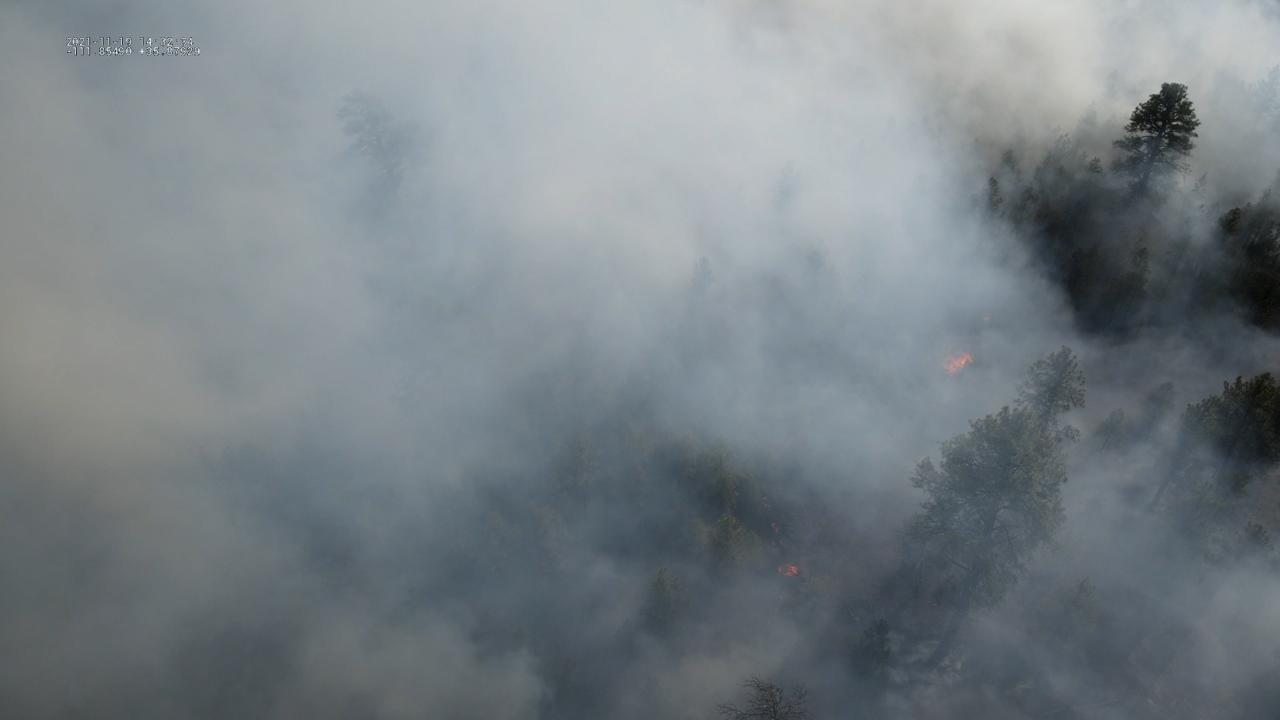fire: (939, 350, 974, 378), (775, 564, 800, 578), (768, 521, 783, 535), (981, 314, 994, 324)
smoke: (0, 0, 1280, 720)
